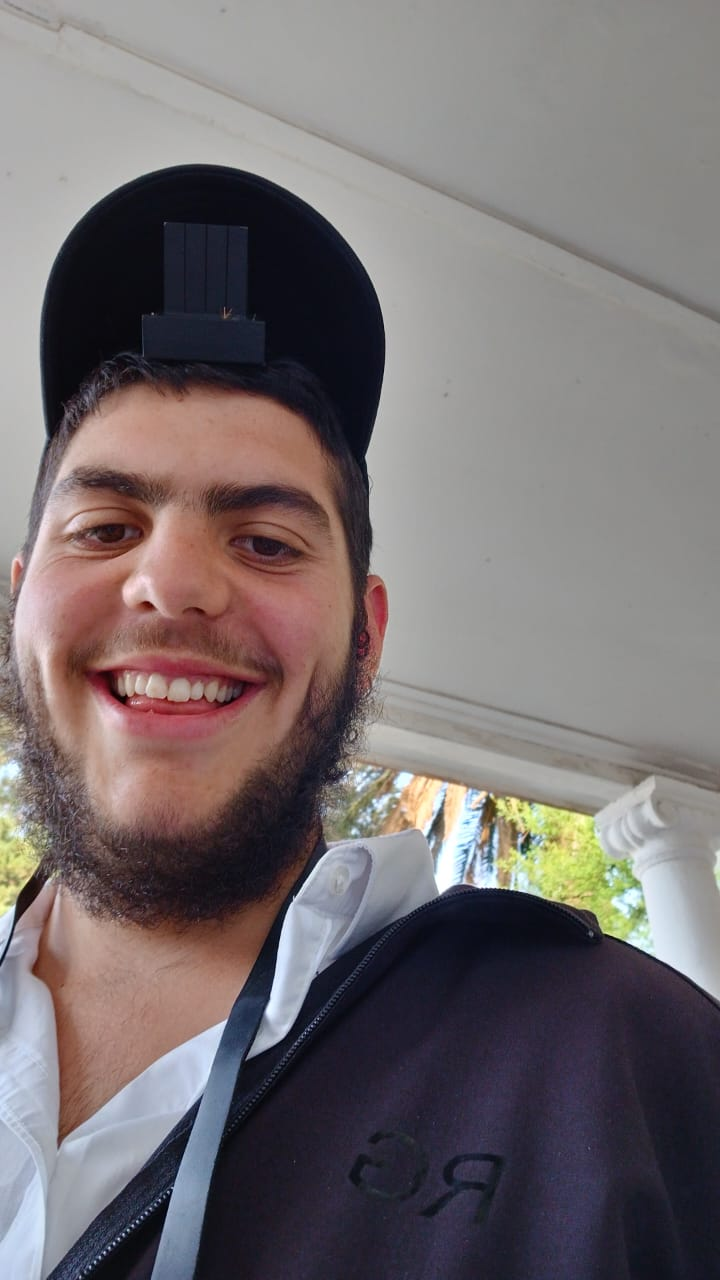tefillin: (139, 218, 267, 361)
